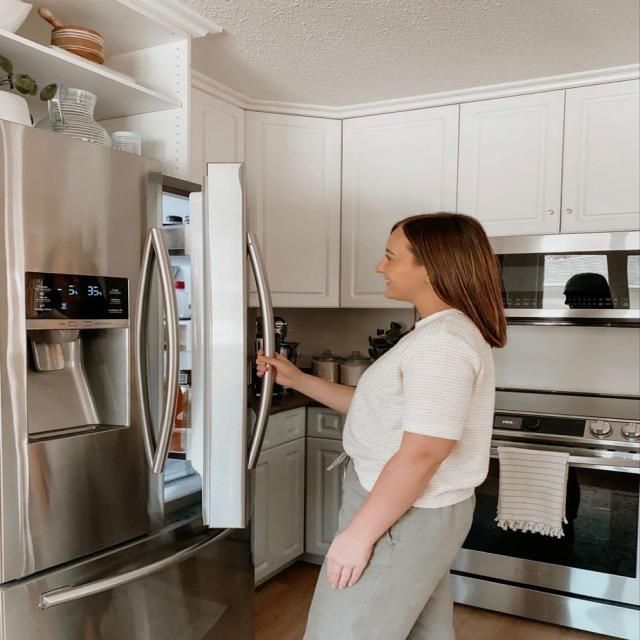obstacle: (0, 116, 272, 638), (456, 74, 639, 238)
person: (253, 210, 508, 640)
